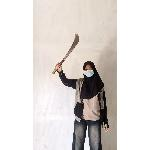Golok: (46, 27, 86, 79)
